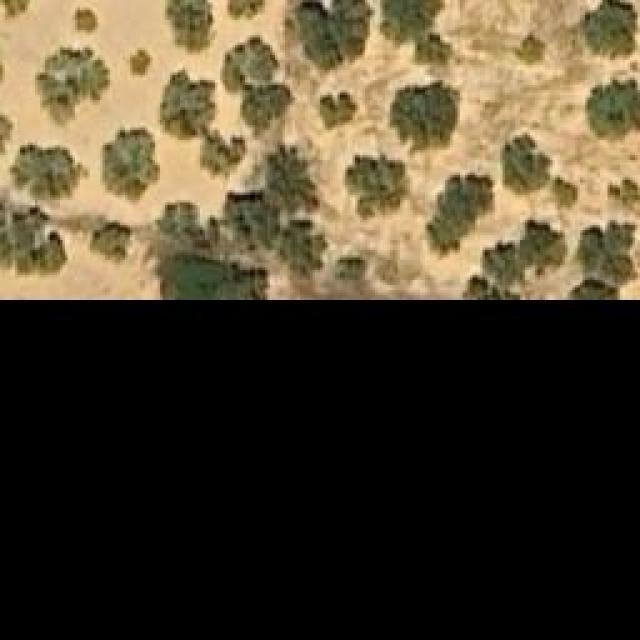Tree: (463, 220, 566, 298), (295, 0, 375, 78), (38, 47, 111, 125), (568, 223, 638, 298), (428, 173, 493, 253), (0, 198, 68, 273), (380, 0, 453, 65), (100, 127, 160, 205), (343, 152, 408, 220), (393, 82, 458, 150), (160, 68, 215, 141), (587, 74, 640, 147), (13, 143, 78, 198), (163, 0, 218, 58), (583, 0, 638, 58), (500, 135, 553, 195), (275, 220, 328, 278), (218, 33, 271, 88), (263, 152, 308, 210), (242, 85, 290, 128), (88, 218, 131, 263), (200, 138, 245, 178), (320, 90, 358, 128), (510, 30, 548, 65), (607, 177, 640, 212), (548, 175, 578, 210), (0, 0, 35, 25), (130, 50, 153, 78), (73, 8, 98, 33)
